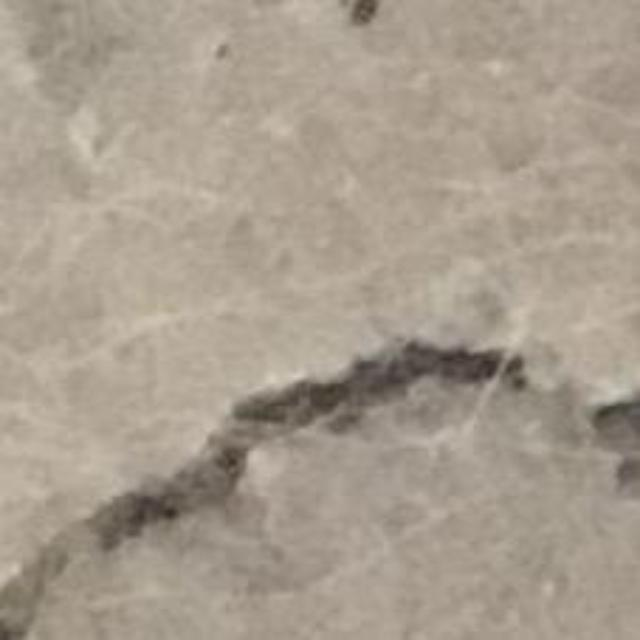crack: (0, 339, 639, 639)
